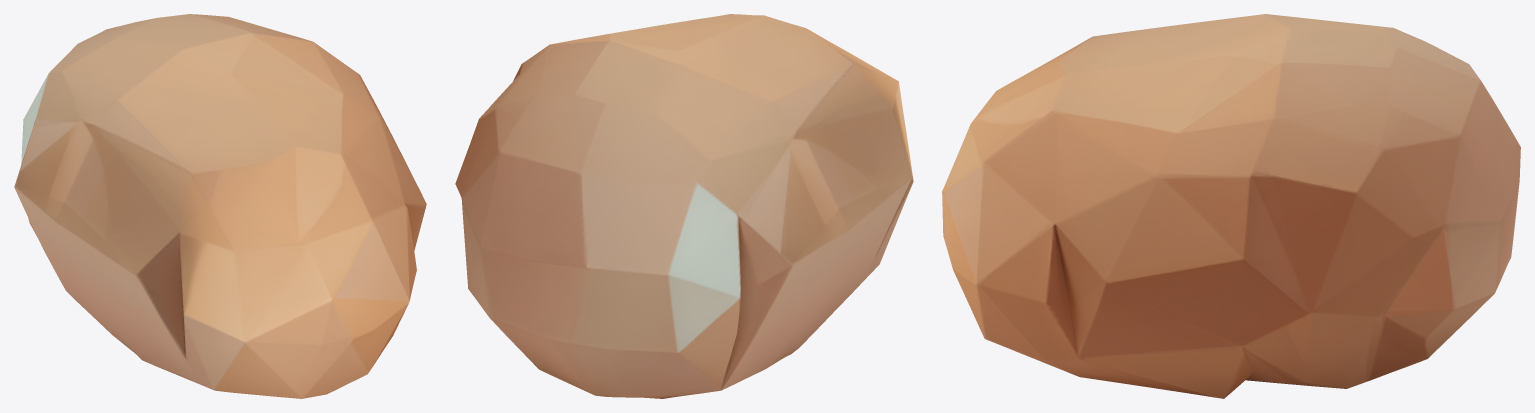
The model's file is base_basic_shaded.fbx.
3 renders of one model, left to right at view 1: azimuth 30°, elevation 25°; view 2: azimuth 150°, elevation 25°; view 3: azimuth 270°, elevation 25°, orthographic. The views are drawn at different scales.
Visible parts, largest first — view 1: model; view 2: model; view 3: model.
Part boxes in pixels (x1,y1,x2,y2): model: (14, 14, 426, 398); model: (455, 14, 913, 398); model: (942, 14, 1520, 398).
Size of the model in its own units: 143 by 122 by 189.
